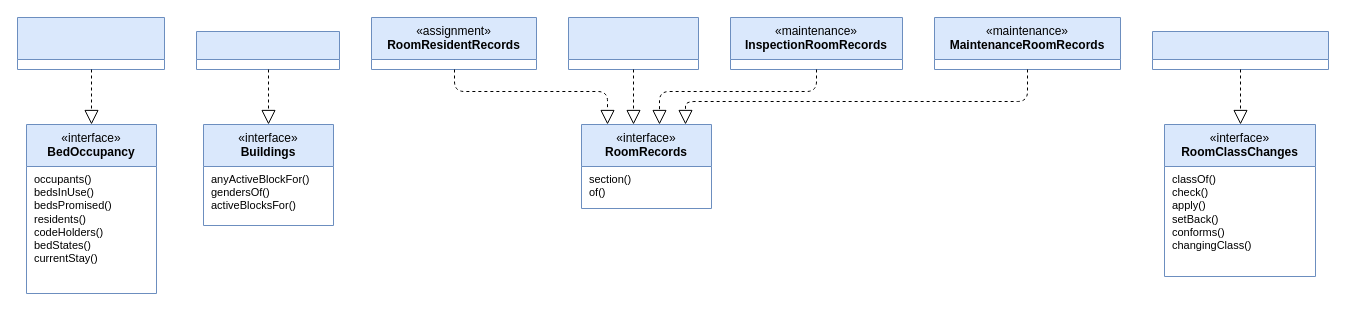
The diagram is 1346 pixels wide and 314 high, and some of its shapes have lost their labels. Each missing label, with the centre of its shape:
"JdbcBlockDirectory" belongs at (x=268, y=50).
"JdbcRoomClassChanges" belongs at (x=1240, y=50).
"«assignment» JdbcBedOccupancy" belongs at (x=90, y=43).
"«billing» MeterRecords" belongs at (x=633, y=43).
